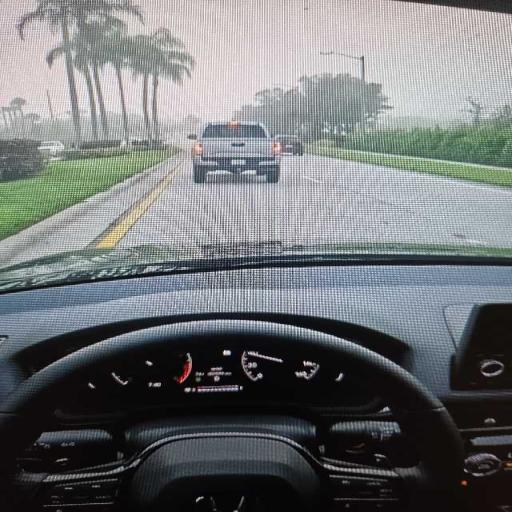car: (189, 122, 280, 183), (275, 136, 303, 156), (39, 140, 65, 158)
lane: (120, 156, 511, 247)
